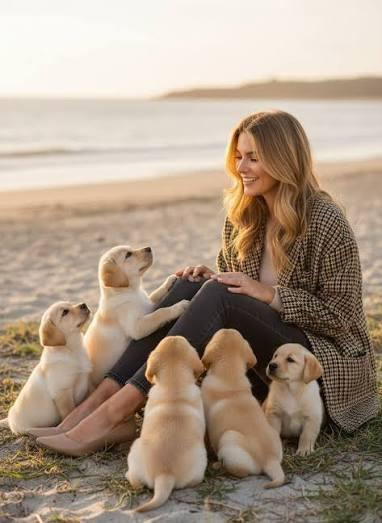non-dog: (18, 109, 379, 457)
puppy-dog: (124, 335, 207, 514), (86, 243, 193, 381), (201, 327, 286, 489), (8, 301, 97, 436), (267, 341, 326, 456)
